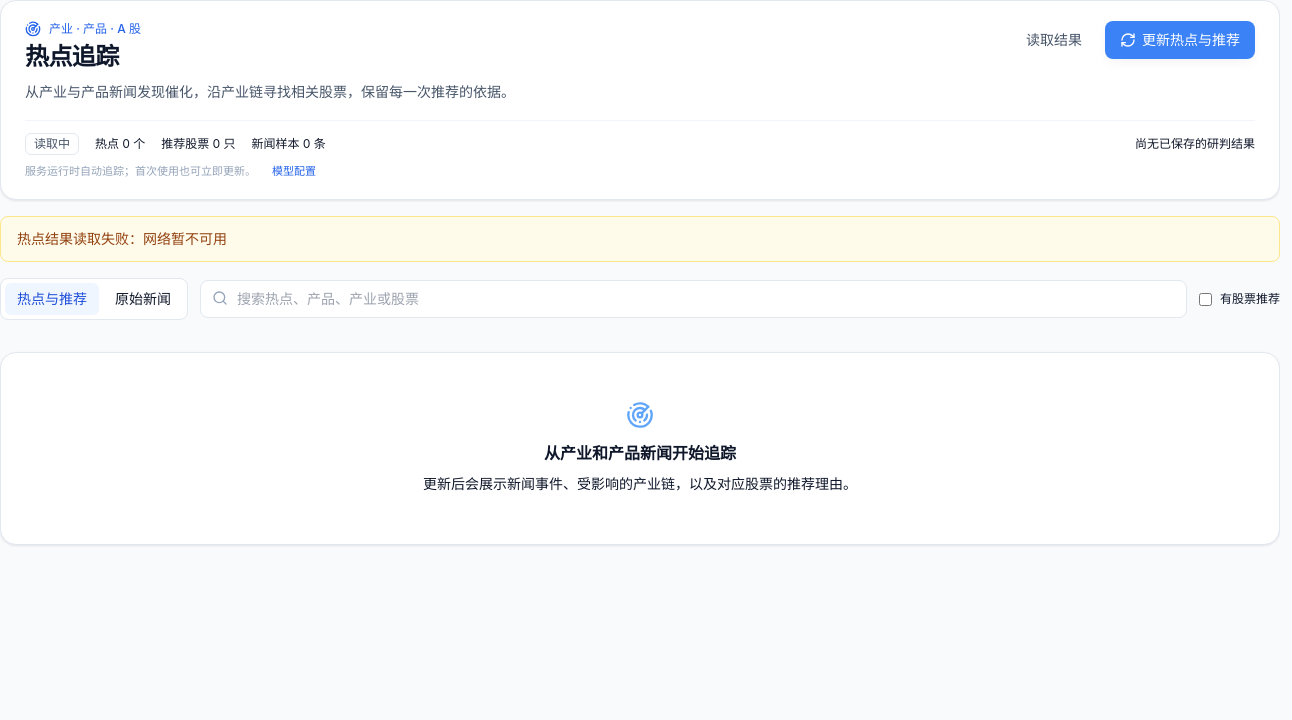
Scenario: HotspotPage snapshot and evidence workflow › shows initial read errors and lets reading recover without submitting a refresh
The width and height of the screenshot is (1292, 720).
Expected: the message "热点结果读取失败：网络暂不可用" is shown, [0,216,1280,262]
Click the button "读取结果": (1054, 40) [1011,21,1097,59]
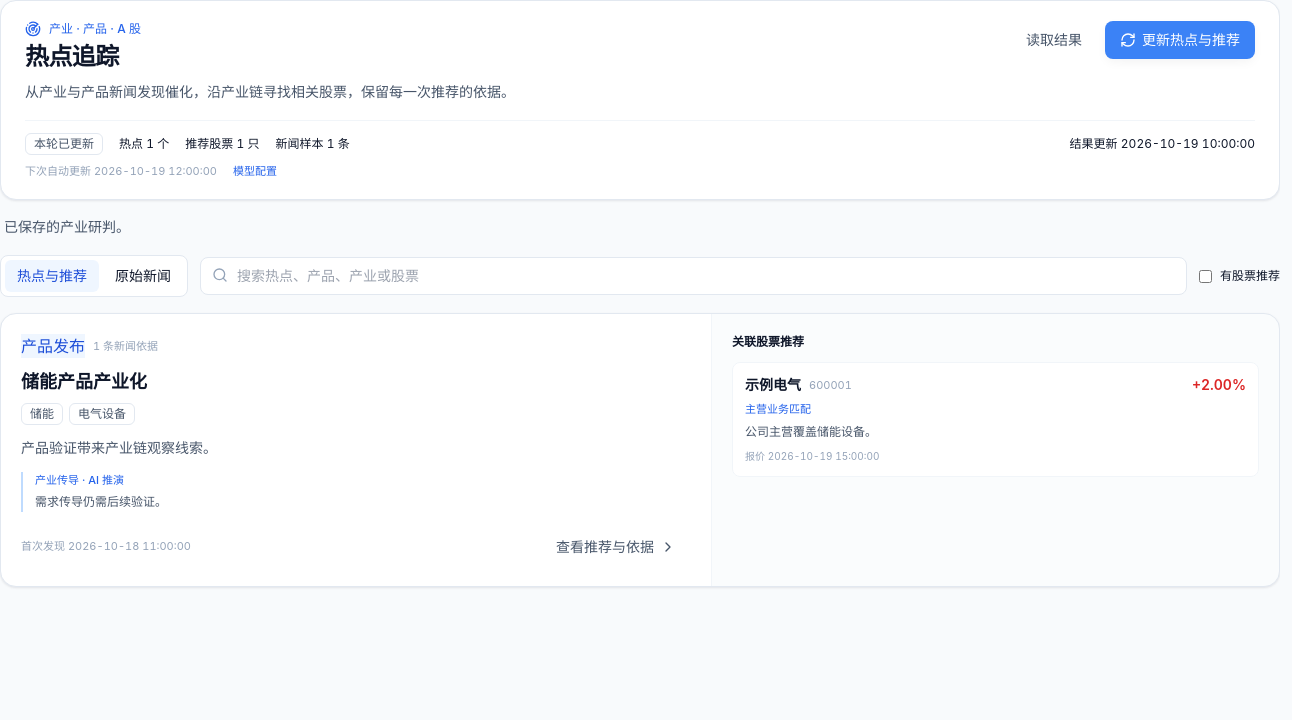
Now the message "热点结果读取失败：网络暂不可用" is gone
Now the text "储能产品产业化" is shown, box [21,370,147,395]
